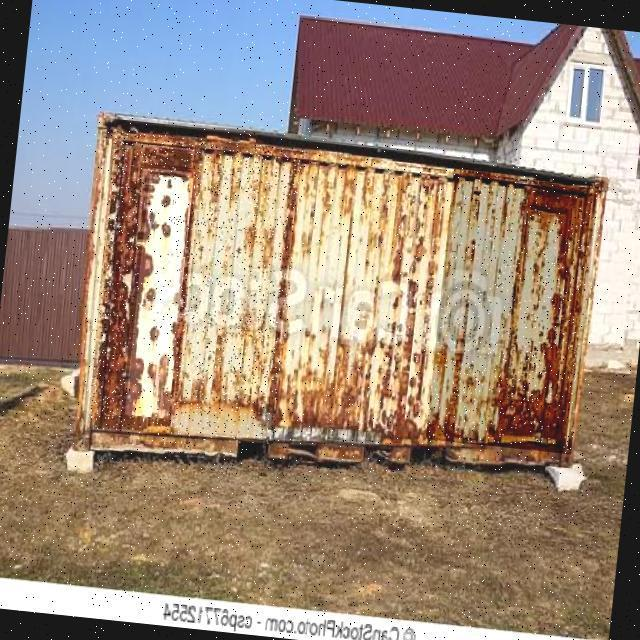rust: (86, 131, 305, 448), (426, 170, 600, 458), (123, 175, 194, 420)
